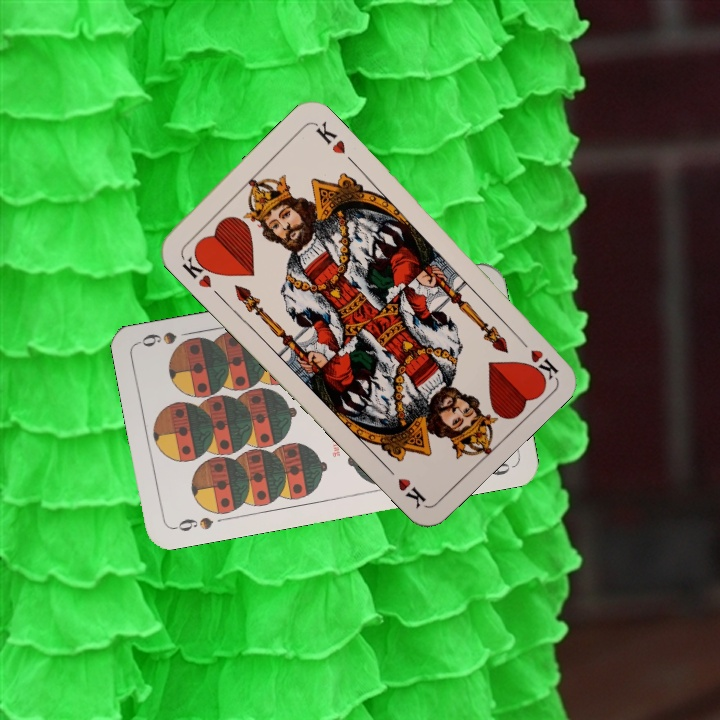HK: (512, 331, 561, 382), (177, 247, 219, 291)
S9: (169, 513, 216, 534)
